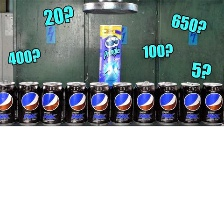can: (97, 20, 125, 86), (40, 79, 67, 131), (177, 79, 204, 126), (155, 76, 180, 126), (87, 79, 112, 129), (64, 78, 88, 130), (132, 77, 155, 127), (17, 80, 39, 130), (110, 80, 134, 125), (202, 81, 224, 126), (0, 79, 17, 126)
